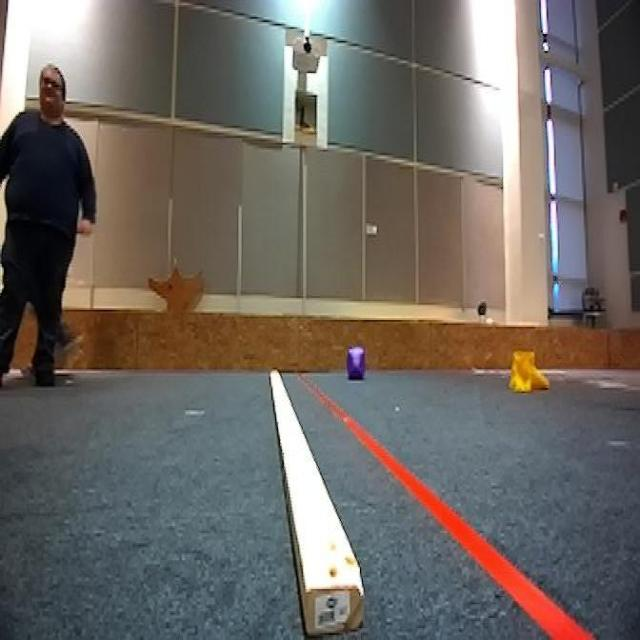frc_cone: (507, 354, 548, 395)
frc_cube: (344, 347, 368, 385)
